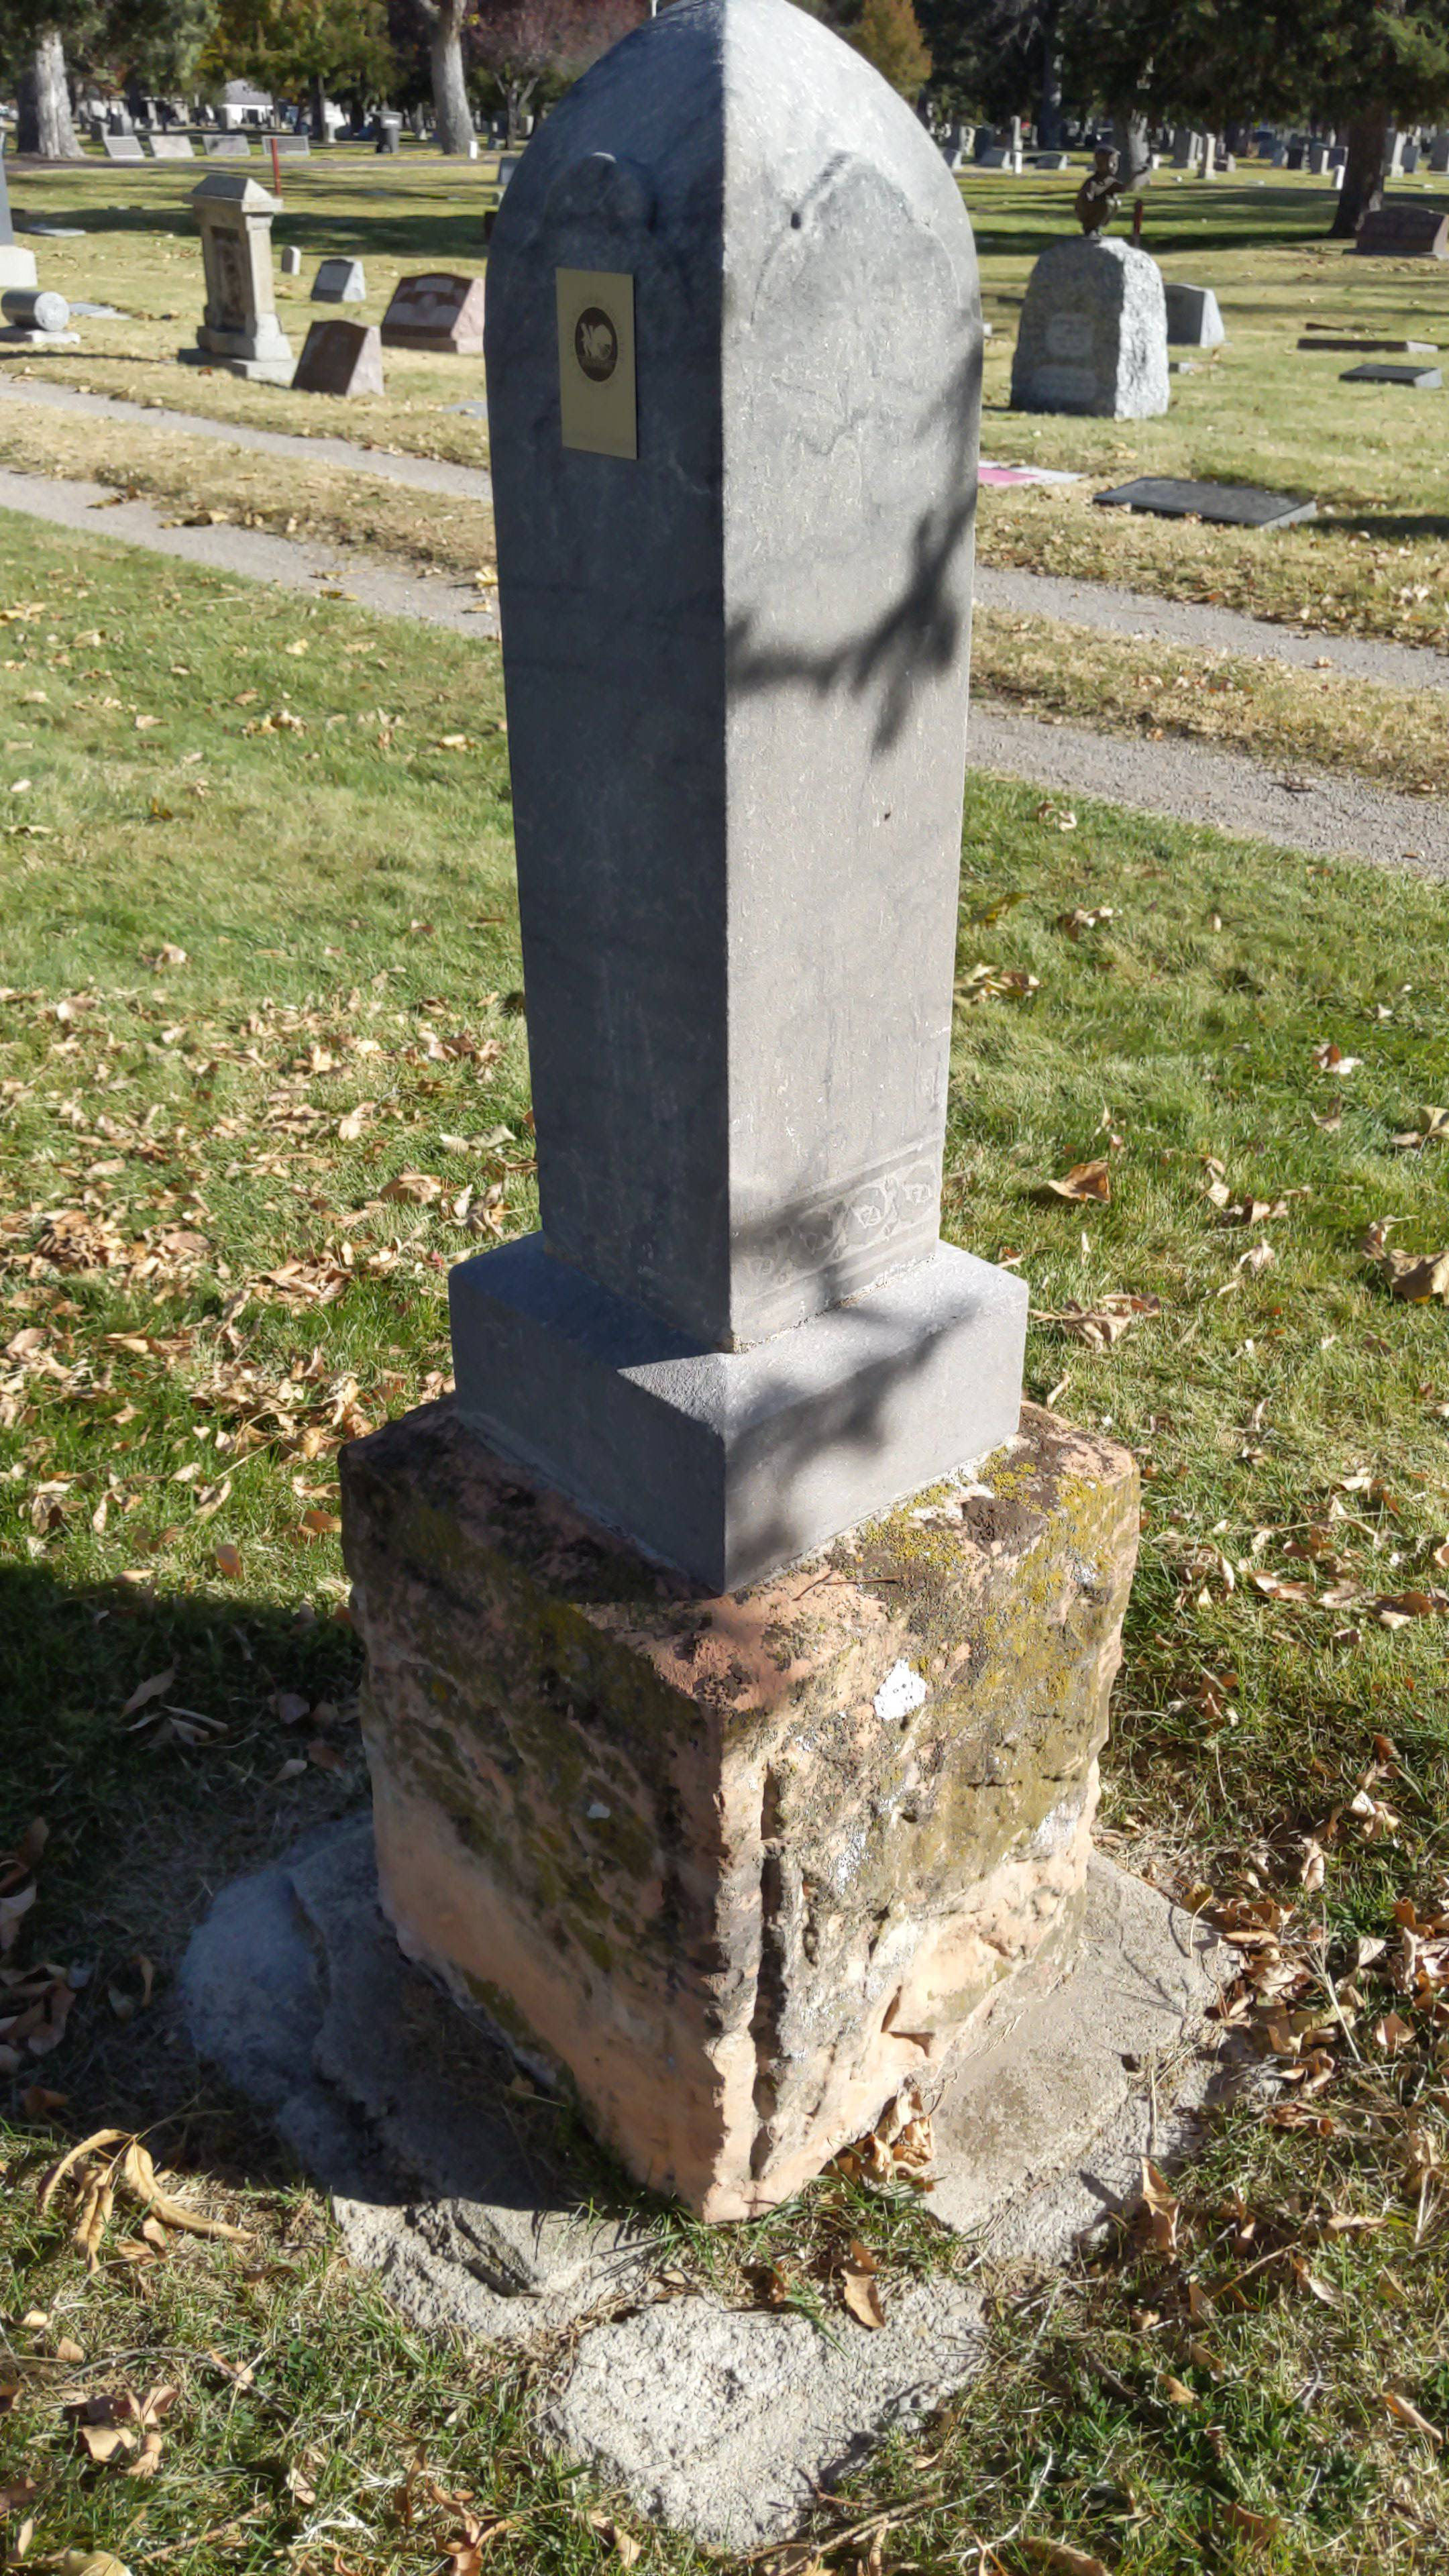obelisk: (444, 9, 1026, 1576)
